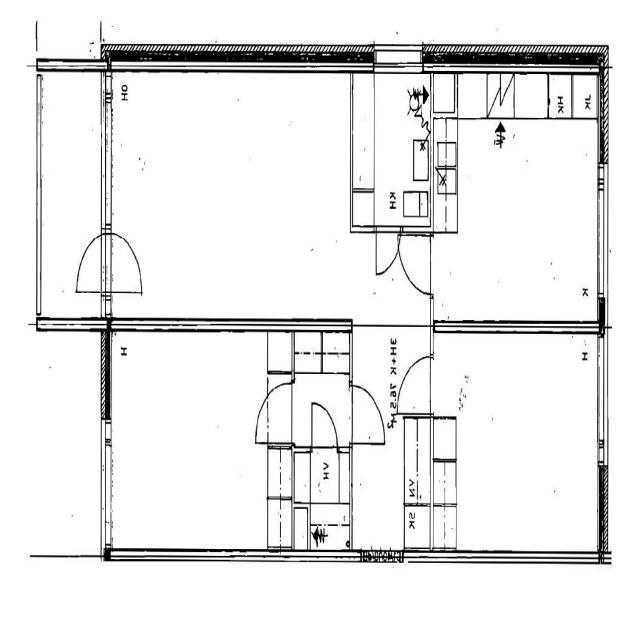door: (69, 233, 112, 291), (101, 233, 144, 291), (258, 382, 294, 442), (398, 234, 434, 294), (349, 384, 385, 442), (399, 356, 434, 414), (312, 399, 337, 452), (376, 226, 400, 275)
